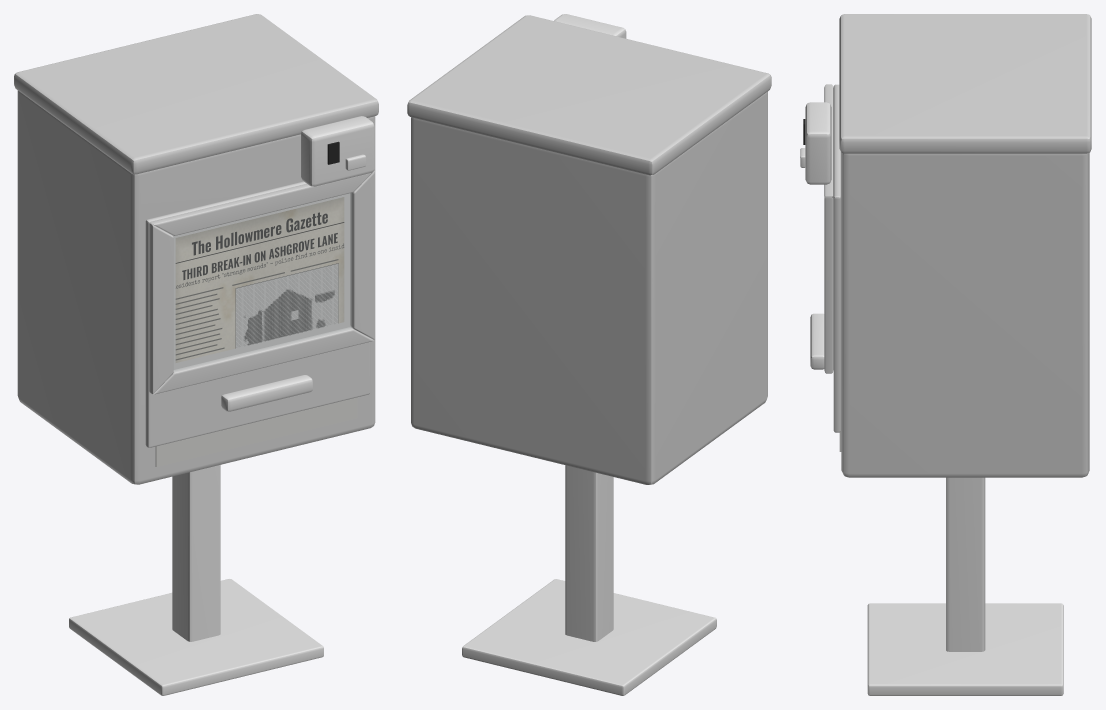
The model's file is SM_Newspaper_Box.fbx.
3 renders of one model, left to right at view 1: azimuth 30°, elevation 25°; view 2: azimuth 150°, elevation 25°; view 3: azimuth 270°, elevation 25°, orthographic. The views are drawn at different scales.
Visible parts, largest first — view 1: SM_Newspaper_Box; view 2: SM_Newspaper_Box; view 3: SM_Newspaper_Box.
Part boxes in pixels (<box>): SM_Newspaper_Box: <box>14,14,378,695</box>; SM_Newspaper_Box: <box>407,14,771,695</box>; SM_Newspaper_Box: <box>800,14,1091,695</box>.
Bounding box in the file's own units: 45.6 × 98 × 44.6.
